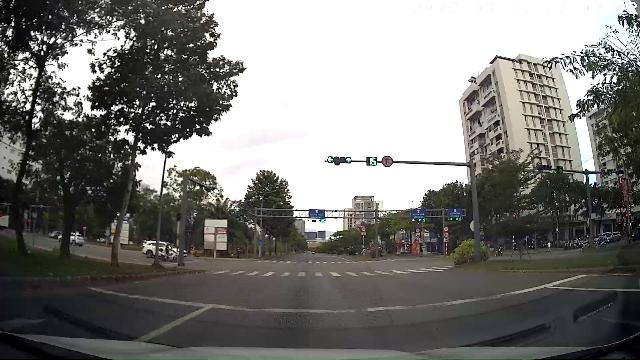123b-cam-re-phai: (382, 156, 392, 166)
